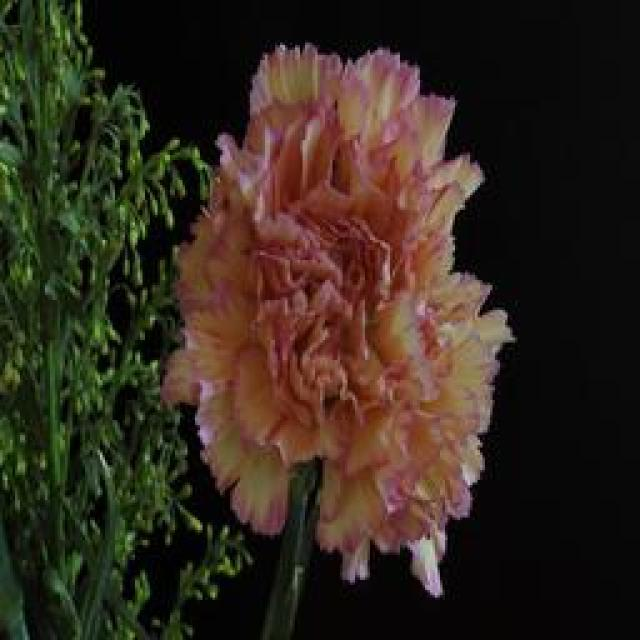carnation: (173, 31, 519, 610)
